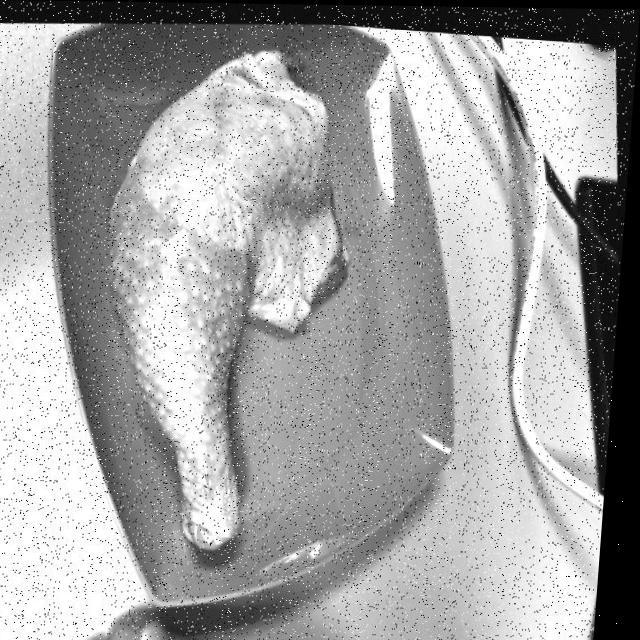quater: (90, 56, 371, 549)
